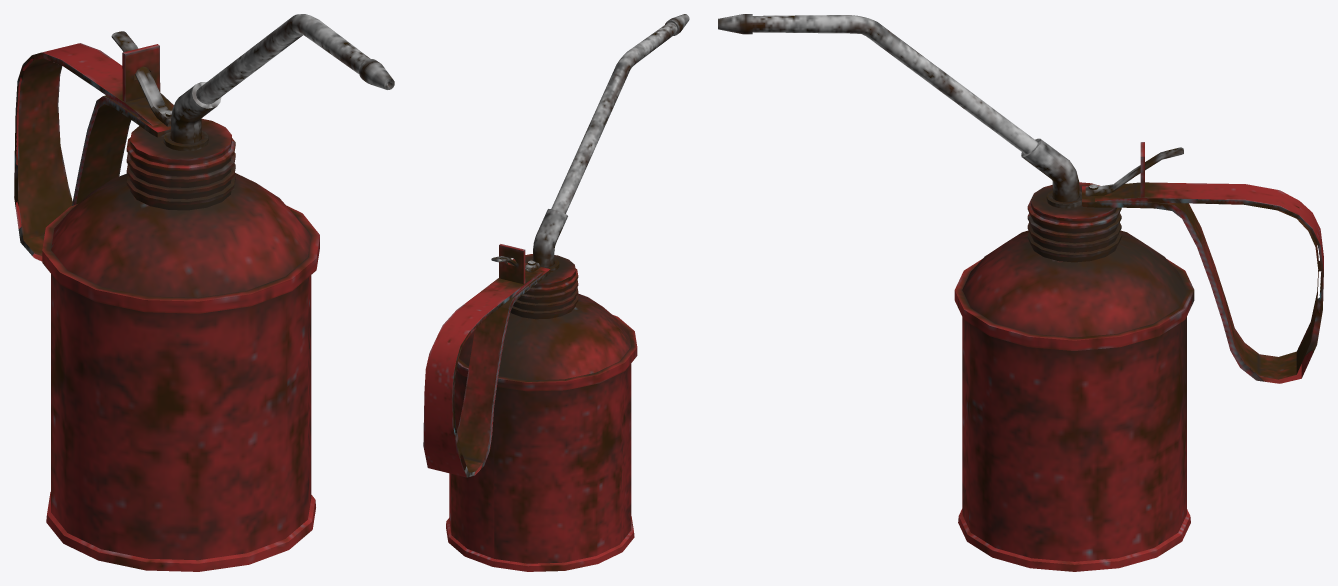
Rendered from Oil Can.fbx.
3 renders of one model, left to right at view 1: azimuth 30°, elevation 25°; view 2: azimuth 150°, elevation 25°; view 3: azimuth 270°, elevation 25°, orthographic. The views are drawn at different scales.
Parts seen in each view (by area): view 1: Cylinder; view 2: Cylinder; view 3: Cylinder.
Boxes of the visible parts, x1=… form: Cylinder: x1=14, y1=14, x2=394, y2=571; Cylinder: x1=423, y1=14, x2=689, y2=571; Cylinder: x1=718, y1=14, x2=1323, y2=571.
Size of the model in its own units: 18.35 by 42.88 by 46.37.
1 material, 1 textured.
